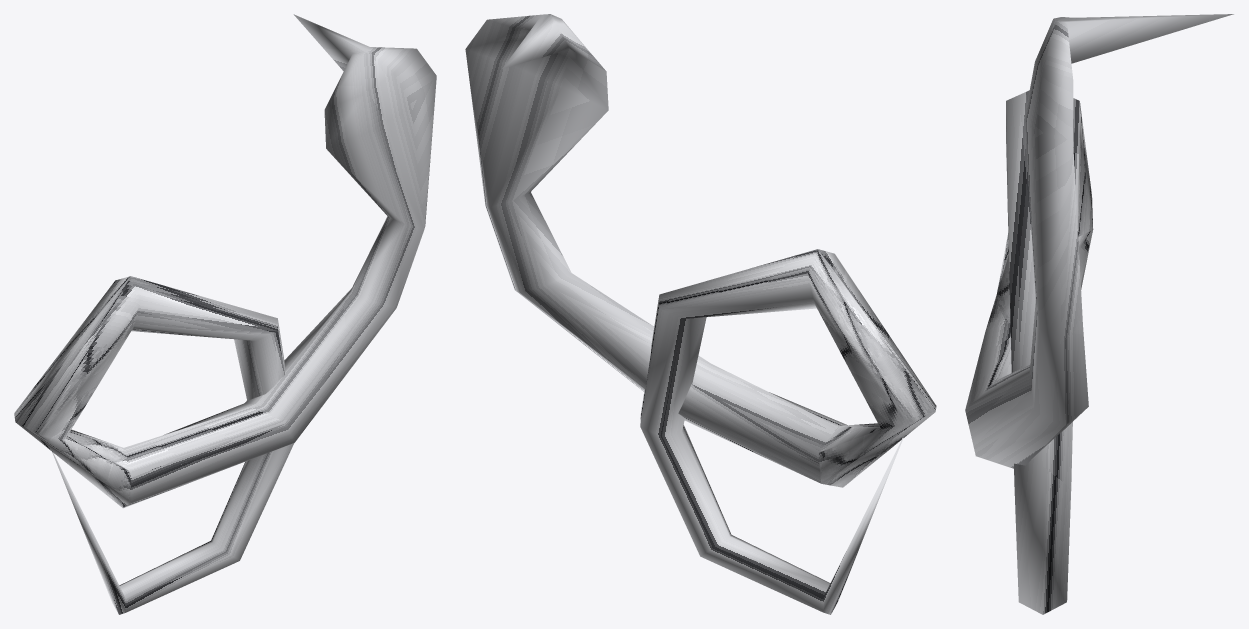
File: snake_000064.obj
3 renders of one model, left to right at view 1: azimuth 30°, elevation 25°; view 2: azimuth 150°, elevation 25°; view 3: azimuth 270°, elevation 25°, orthographic. The views are drawn at different scales.
Visible parts, largest first — view 1: Cylinder; view 2: Cylinder; view 3: Cylinder.
Boxes of the visible parts, left/top/right/bottom form: Cylinder: left=14, top=14, right=436, bottom=614; Cylinder: left=465, top=14, right=936, bottom=614; Cylinder: left=965, top=14, right=1233, bottom=614.
Size of the model in its own units: 3.26 by 3.62 by 1.21.
